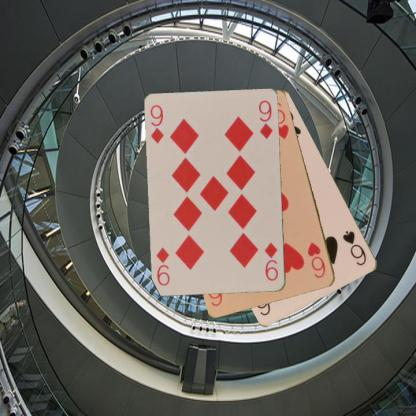6h: (305, 239, 327, 280)
6s: (340, 228, 368, 267)
9d: (148, 102, 165, 145), (262, 240, 279, 282)
